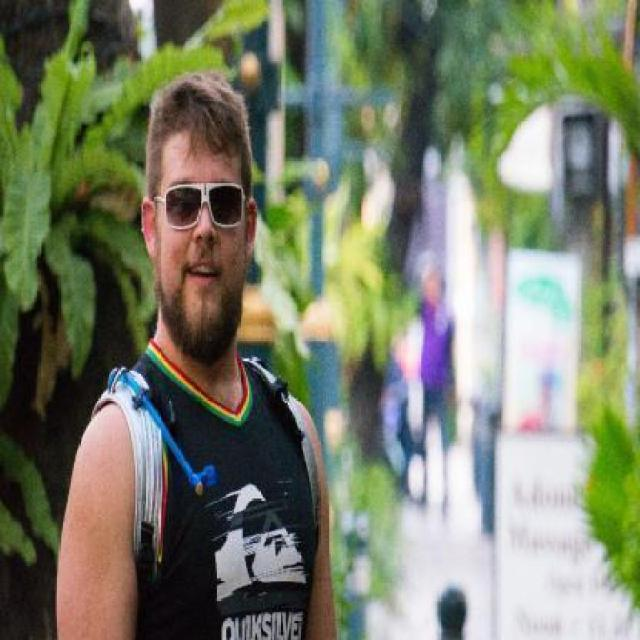face_nomask: (158, 184, 237, 293)
glasses: (140, 176, 249, 230)
head_nohelmet: (142, 82, 252, 170)
person: (70, 81, 335, 640)
